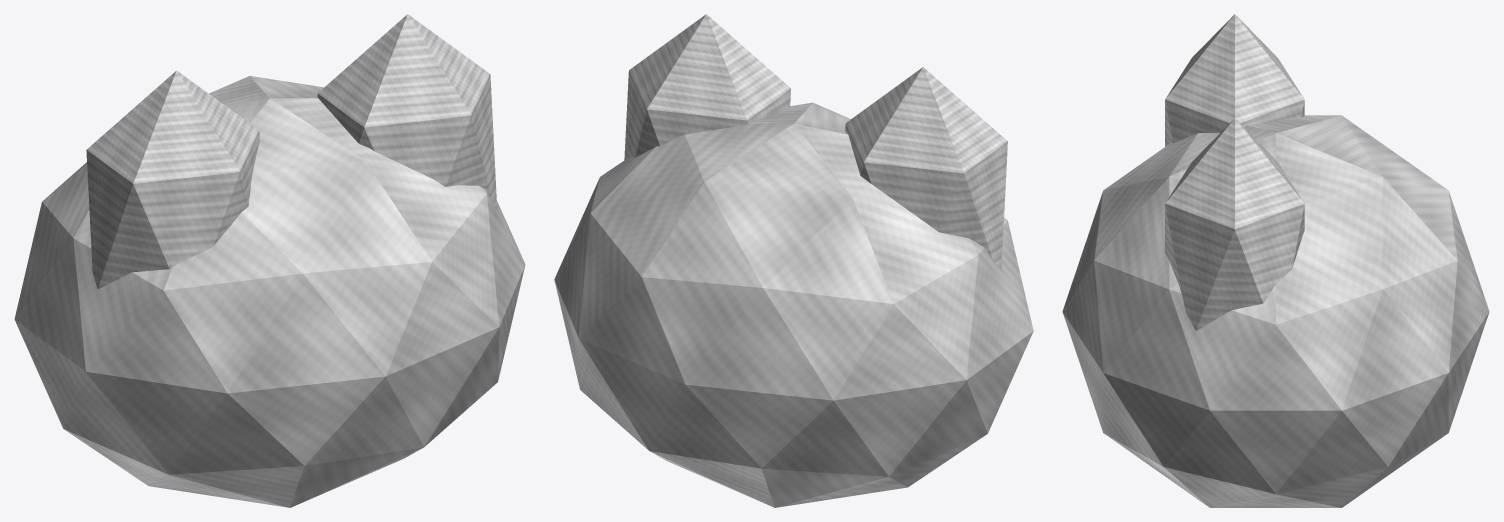
The model's file is item-flower-petals_variant_a.glb.
3 views of the same model, side by side, from view 1: azimuth 30°, elevation 25°; view 2: azimuth 150°, elevation 25°; view 3: azimuth 270°, elevation 25° (orthographic). The views are drawn at different scales.
Visible parts, largest first — view 1: Organic item, Organic detail, Organic detail.001; view 2: Organic item, Organic detail, Organic detail.001; view 3: Organic item, Organic detail.001, Organic detail.
Boxes of the visible parts, bbox=[...] form: Organic item: bbox=[14, 76, 525, 507]; Organic detail: bbox=[86, 70, 259, 289]; Organic detail.001: bbox=[317, 14, 497, 209]; Organic item: bbox=[554, 102, 1033, 507]; Organic detail: bbox=[845, 67, 1007, 269]; Organic detail.001: bbox=[624, 14, 790, 160]; Organic item: bbox=[1062, 115, 1489, 507]; Organic detail.001: bbox=[1165, 118, 1304, 330]; Organic detail: bbox=[1165, 14, 1304, 146].
Size of what is drawn, in the model's own units: 0.5706 by 0.57 by 0.52.
2 materials, 2 textured.
